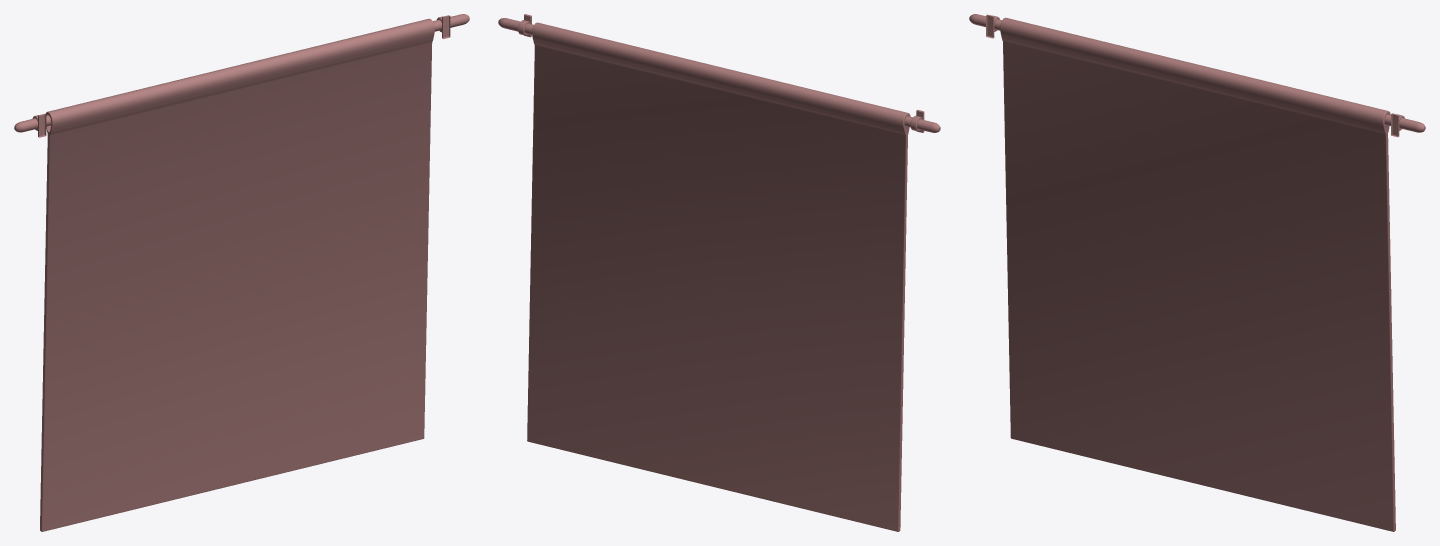
File: Gobelin.fbx
The picture shows the model from 3 angles, left to right: view 1: azimuth 30°, elevation 25°; view 2: azimuth 150°, elevation 25°; view 3: azimuth 330°, elevation 25°; orthographic projection. The views are drawn at different scales.
Parts seen in each view (by area): view 1: CurtainRod001; view 2: CurtainRod001; view 3: CurtainRod001.
Part boxes in pixels (x1,y1,x2,y2): CurtainRod001: (14,14,469,531); CurtainRod001: (498,14,940,531); CurtainRod001: (969,14,1425,531).
Bounding box in the file's own units: 189 × 170 × 9.34.
